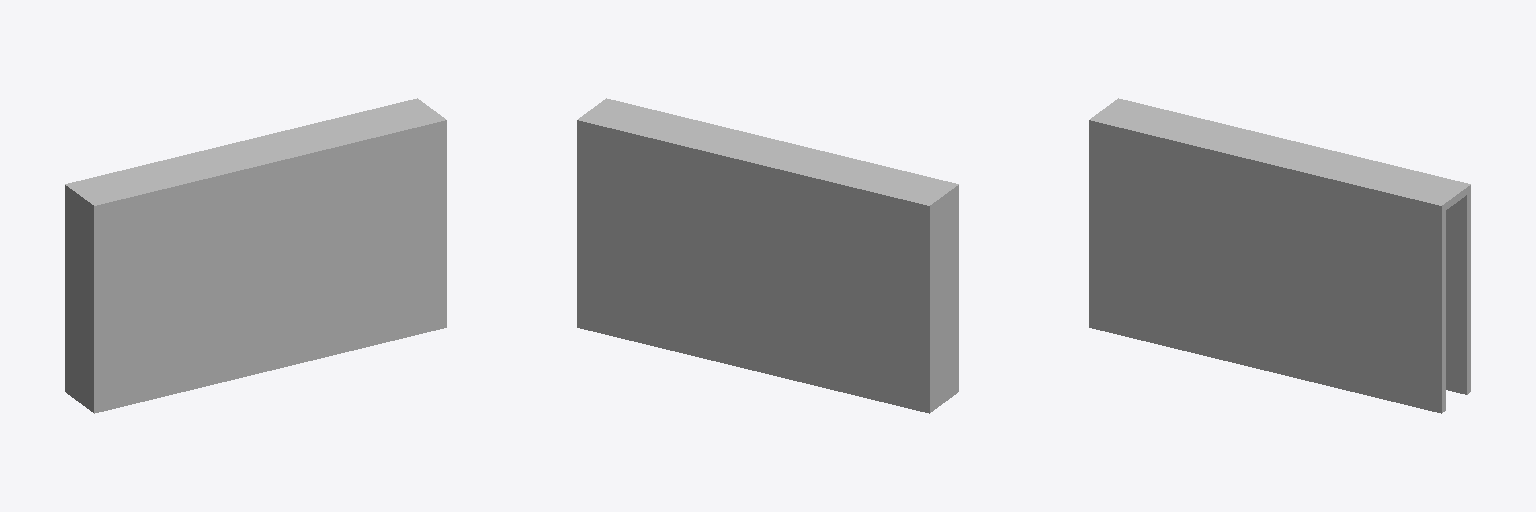
File: homeout.obj
The picture shows the model from 3 angles: view 1: azimuth 30°, elevation 25°; view 2: azimuth 150°, elevation 25°; view 3: azimuth 330°, elevation 25°; orthographic projection.
Visible parts, largest first — view 1: rdmobj02, rdmobj00, rdmobj03; view 2: rdmobj00, rdmobj02, rdmobj03; view 3: rdmobj02, rdmobj00.
Part boxes in pixels (x1,y1,x2,y2): rdmobj02: (90, 117, 446, 413); rdmobj00: (65, 98, 441, 409); rdmobj03: (69, 195, 89, 317); rdmobj00: (577, 101, 954, 413); rdmobj02: (603, 98, 958, 394); rdmobj03: (934, 195, 954, 317); rdmobj02: (1089, 117, 1445, 413); rdmobj00: (1094, 98, 1470, 394).
Bounding box in the file's own units: 1536 × 864 × 224.